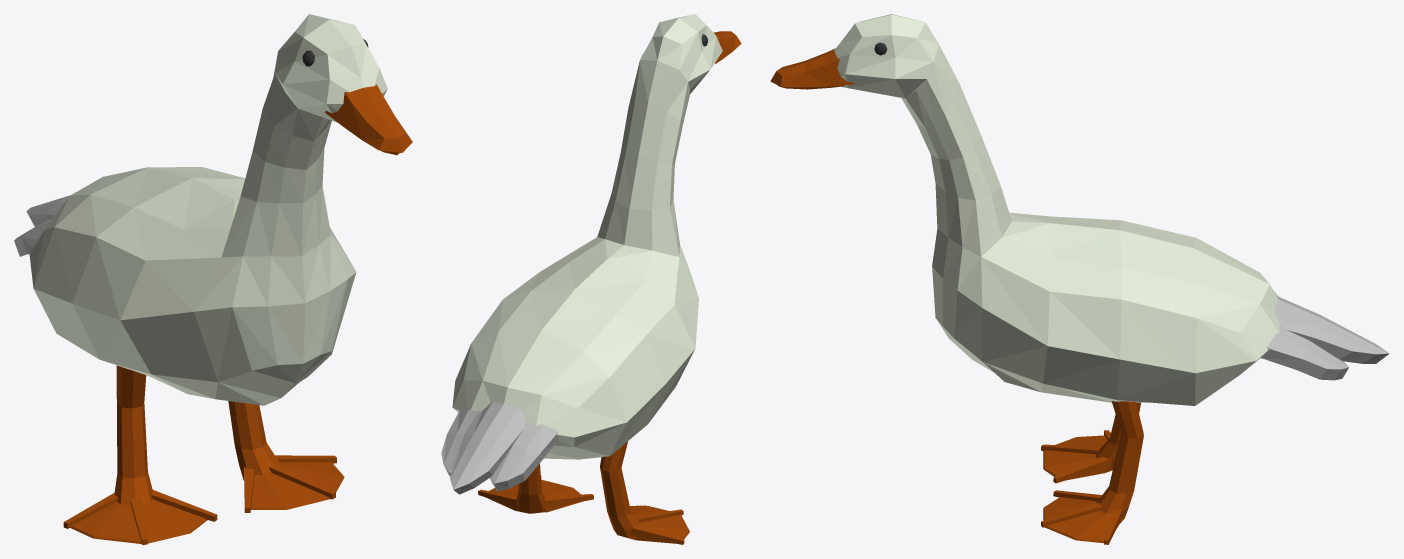
File: Duck.gltf
3 renders of one model, left to right at view 1: azimuth 30°, elevation 25°; view 2: azimuth 150°, elevation 25°; view 3: azimuth 270°, elevation 25°, orthographic. The views are drawn at different scales.
Parts seen in each view (by area): view 1: Node; view 2: Node; view 3: Node.
Boxes of the visible parts, x1,y1,x2,y2 form: Node: (14,14,412,544); Node: (441,14,741,544); Node: (770,14,1389,544).
Size of the model in its own units: 1.77 by 3.57 by 4.2.
